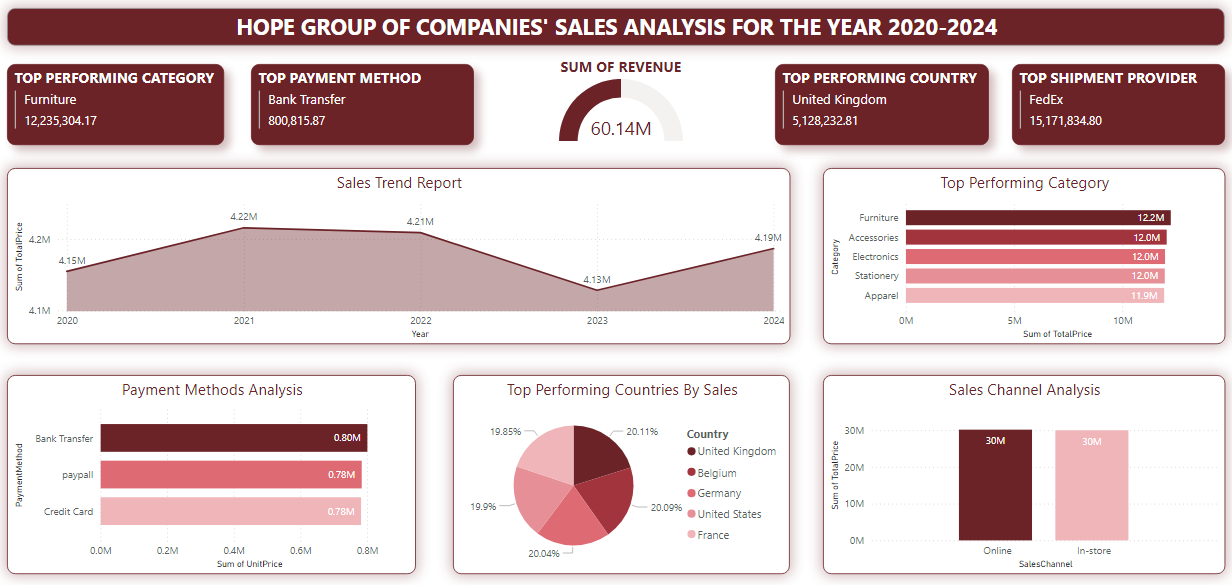

Layout of this report page (visuals, bound fields, positions):
{"tool":"powerbi","page":{"name":"Page 1","canvas":[1505,720],"ordinal":0},"visuals":[{"type":"lineChart","title":"Sales Trend Report","fields":{"Category":["online_sales_dataset.InvoiceDate.1.Variation.Date Hierarchy.Year","online_sales_dataset.InvoiceDate.1.Variation.Date Hierarchy.Quarter","online_sales_dataset.InvoiceDate.1.Variation.Date Hierarchy.Month","online_sales_dataset.InvoiceDate.1.Variation.Date Hierarchy.Day"],"Y":["Sum(online_sales_dataset.TotalPrice)"]},"box":[9.8,209.9,955.5,214.8],"z":0},{"type":"textbox","title":"HOPE GROUP OF COMPANIES'' SALES ANALYSIS FOR THE YEAR 2020-2024","box":[9.8,14.6,1486.4,46.4],"z":1},{"type":"barChart","title":"Top Performing Category","fields":{"Y":["Sum(online_sales_dataset.TotalPrice)"],"Category":["online_sales_dataset.Category"]},"box":[1005.6,209.9,490.6,214.8],"z":2},{"type":"barChart","title":"Payment Methods Analysis","fields":{"Category":["online_sales_dataset.PaymentMethod"],"Y":["Sum(online_sales_dataset.UnitPrice)"]},"box":[9.8,462.5,499.1,242.8],"z":3},{"type":"pieChart","title":"Top Performing Countries By Sales","fields":{"Category":["online_sales_dataset.Country"],"Y":["Sum(online_sales_dataset.TotalPrice)"]},"box":[554,462.5,411.3,242.8],"z":4},{"type":"columnChart","title":"Sales Channel Analysis","fields":{"Category":["online_sales_dataset.SalesChannel"],"Y":["Sum(online_sales_dataset.TotalPrice)"]},"box":[1005.6,462.5,490.6,242.8],"z":5},{"type":"multiRowCard","title":"TOP PERFORMING CATEGORY","fields":{"Values":["Sum(online_sales_dataset.TotalPrice)","online_sales_dataset (2).Category"]},"box":[9.8,83,264.8,98.8],"z":6},{"type":"gauge","title":"SUM OF REVENUE","fields":{"Y":["Sum(online_sales_dataset.TotalPrice)"]},"box":[571.1,73.2,375.9,108.6],"z":7},{"type":"multiRowCard","title":"TOP PAYMENT METHOD","fields":{"Values":["Sum(online_sales_dataset (2).UnitPrice)","online_sales_dataset (2).PaymentMethod"]},"box":[307.5,83,272.1,98.8],"z":8},{"type":"multiRowCard","title":"TOP PERFORMING COUNTRY","fields":{"Values":["Sum(online_sales_dataset.TotalPrice)","online_sales_dataset.Country"]},"box":[947,83,261.2,98.8],"z":9},{"type":"multiRowCard","title":"TOP SHIPMENT PROVIDER","fields":{"Values":["Sum(online_sales_dataset.TotalPrice)","online_sales_dataset.ShipmentProvider"]},"box":[1236.2,83,259.9,98.8],"z":10}]}

Visuals, with their boxes in screenshot pixels (x1, y1, x2, y2), scaled from the page's 1505x720 canvas onto the 1232x585 screenshot:
"Sales Trend Report" lineChart: x1=8, y1=171, x2=790, y2=345
"HOPE GROUP OF COMPANIES'' SALES ANALYSIS FOR THE YEAR 2020-2024" textbox: x1=8, y1=12, x2=1225, y2=50
"Top Performing Category" barChart: x1=823, y1=171, x2=1225, y2=345
"Payment Methods Analysis" barChart: x1=8, y1=376, x2=417, y2=573
"Top Performing Countries By Sales" pieChart: x1=454, y1=376, x2=790, y2=573
"Sales Channel Analysis" columnChart: x1=823, y1=376, x2=1225, y2=573
"TOP PERFORMING CATEGORY" multiRowCard: x1=8, y1=67, x2=225, y2=148
"SUM OF REVENUE" gauge: x1=468, y1=59, x2=775, y2=148
"TOP PAYMENT METHOD" multiRowCard: x1=252, y1=67, x2=474, y2=148
"TOP PERFORMING COUNTRY" multiRowCard: x1=775, y1=67, x2=989, y2=148
"TOP SHIPMENT PROVIDER" multiRowCard: x1=1012, y1=67, x2=1225, y2=148
